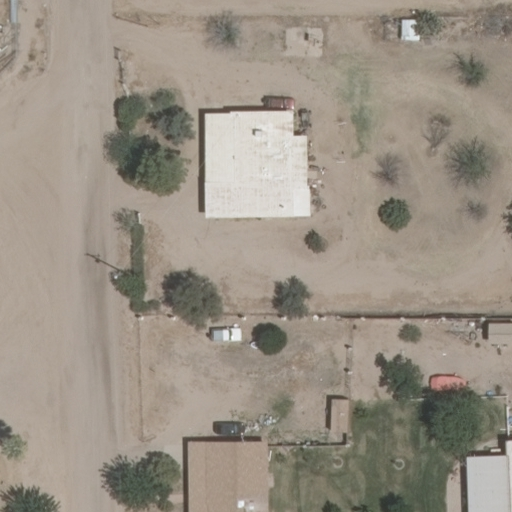DT: (110, 262, 141, 285)
